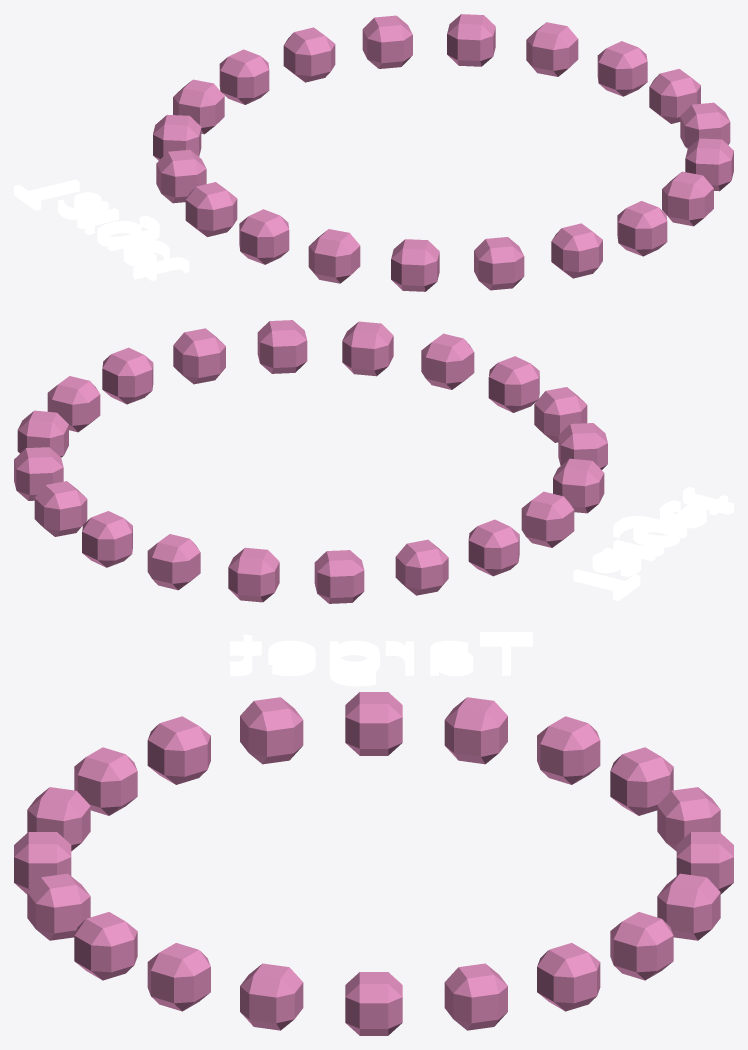
The model's file is target.glb.
3 views of the same model, one above another, from view 1: azimuth 30°, elevation 25°; view 2: azimuth 150°, elevation 25°; view 3: azimuth 270°, elevation 25° (orthographic). The views are drawn at different scales.
Visible parts, largest first — view 1: Cube, Text; view 2: Cube, Text; view 3: Cube, Text.
Boxes of the visible parts, bbox=[...] form: Cube: bbox=[153, 14, 733, 291]; Text: bbox=[14, 179, 189, 280]; Cube: bbox=[14, 320, 607, 603]; Text: bbox=[573, 487, 733, 600]; Cube: bbox=[14, 692, 733, 1035]; Text: bbox=[230, 632, 532, 686].
Size of the model in its own units: 16.66 by 1.09 by 13.6.
